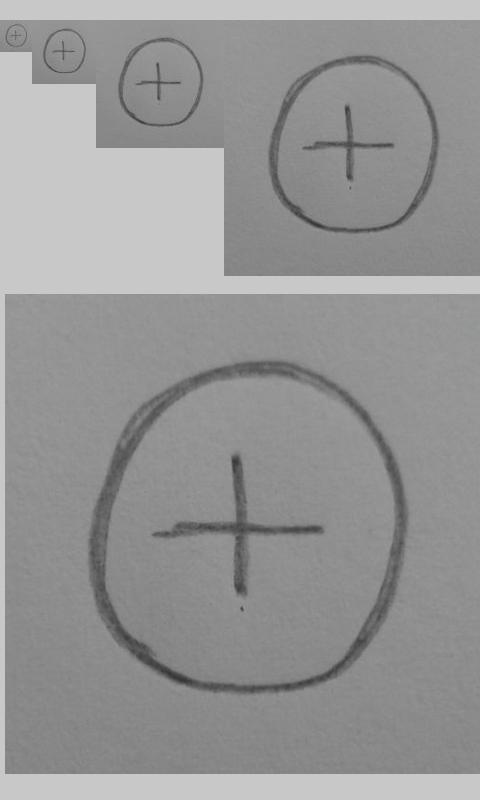button: (87, 359, 408, 696), (270, 54, 439, 233), (118, 37, 204, 127), (43, 28, 87, 74), (5, 23, 28, 48)
